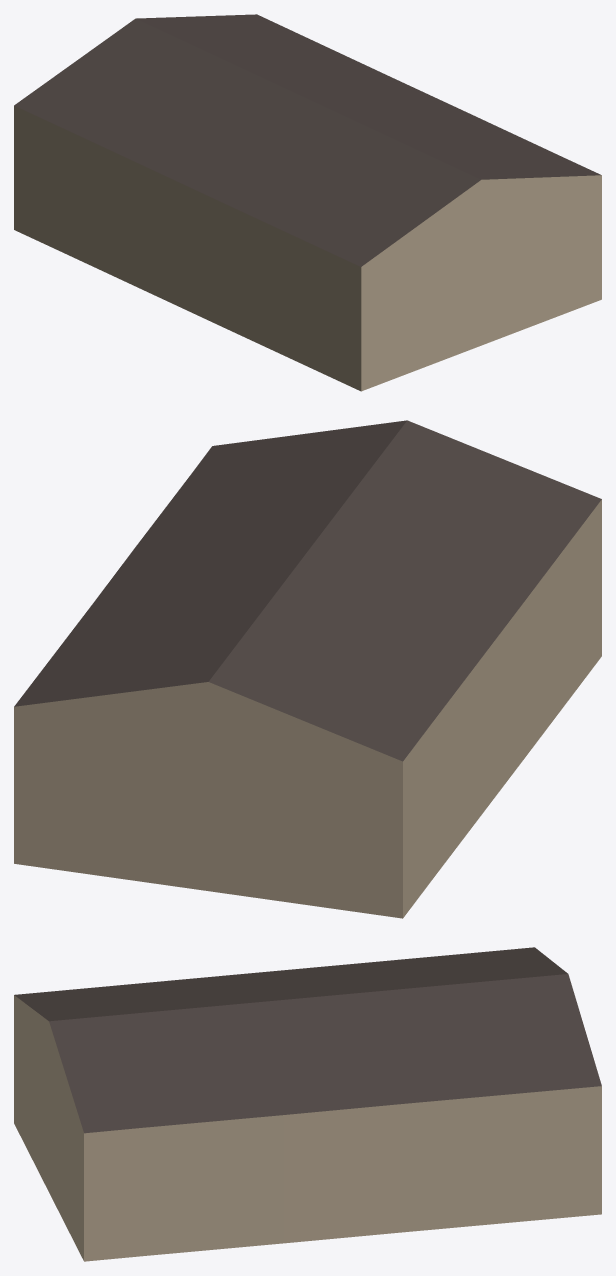
3 views of the same model, one above another, from view 1: azimuth 30°, elevation 25°; view 2: azimuth 150°, elevation 25°; view 3: azimuth 270°, elevation 25° (orthographic). The views are drawn at different scales.
Parts seen in each view (by area): view 1: HP-w428202609; view 2: HP-w428202609; view 3: HP-w428202609.
Part boxes in pixels (x1,y1,x2,y2): HP-w428202609: [14, 14, 601, 391]; HP-w428202609: [14, 420, 601, 918]; HP-w428202609: [14, 947, 601, 1261].
Size of the model in its own units: 27.99 by 12 by 37.38.
